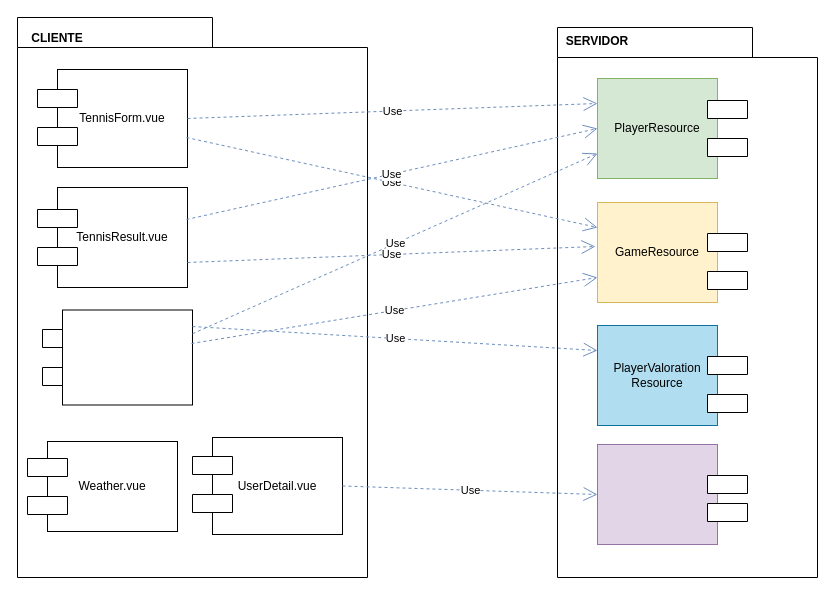
Some shapes in this 835 by 595 pixel diagram are drawn without their labels. The centre of each missing label's shape, as x and y in pixels:
"UserResource" goes at [657,494].
"ValorationGame.vue" goes at [127,357].
